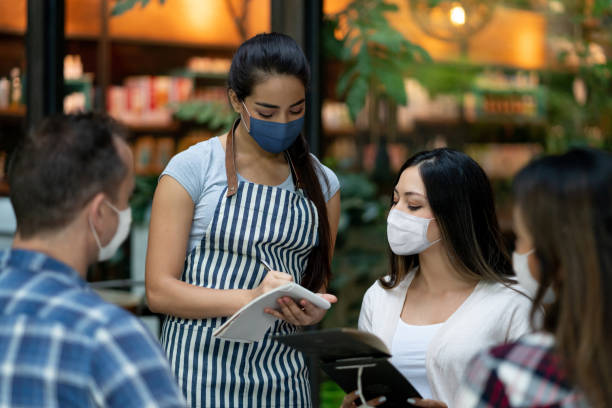with mask: (60, 119, 148, 262), (499, 201, 576, 309), (381, 164, 464, 262), (237, 61, 314, 156)
